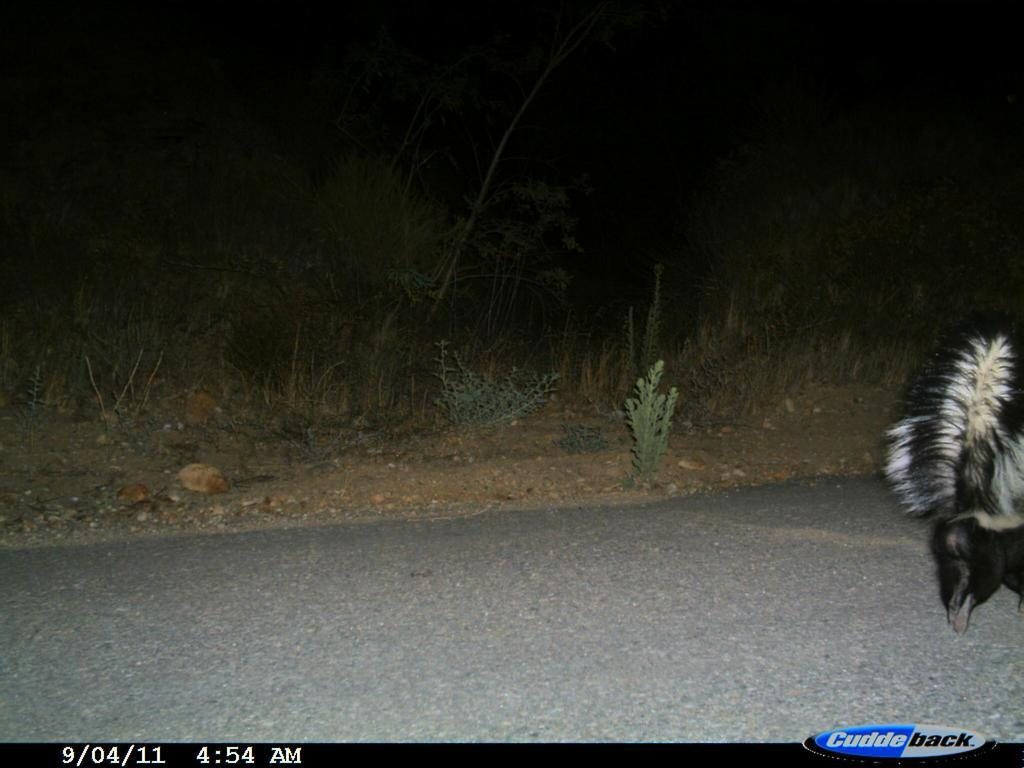skunk: (877, 323, 1023, 638)
